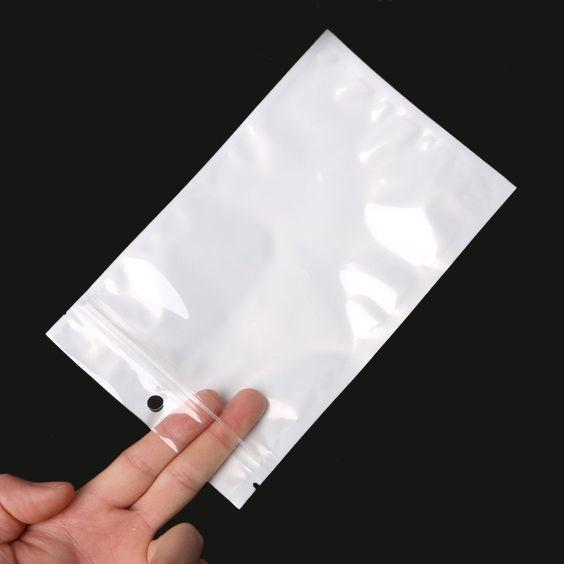LDPE: (74, 71, 472, 429)
